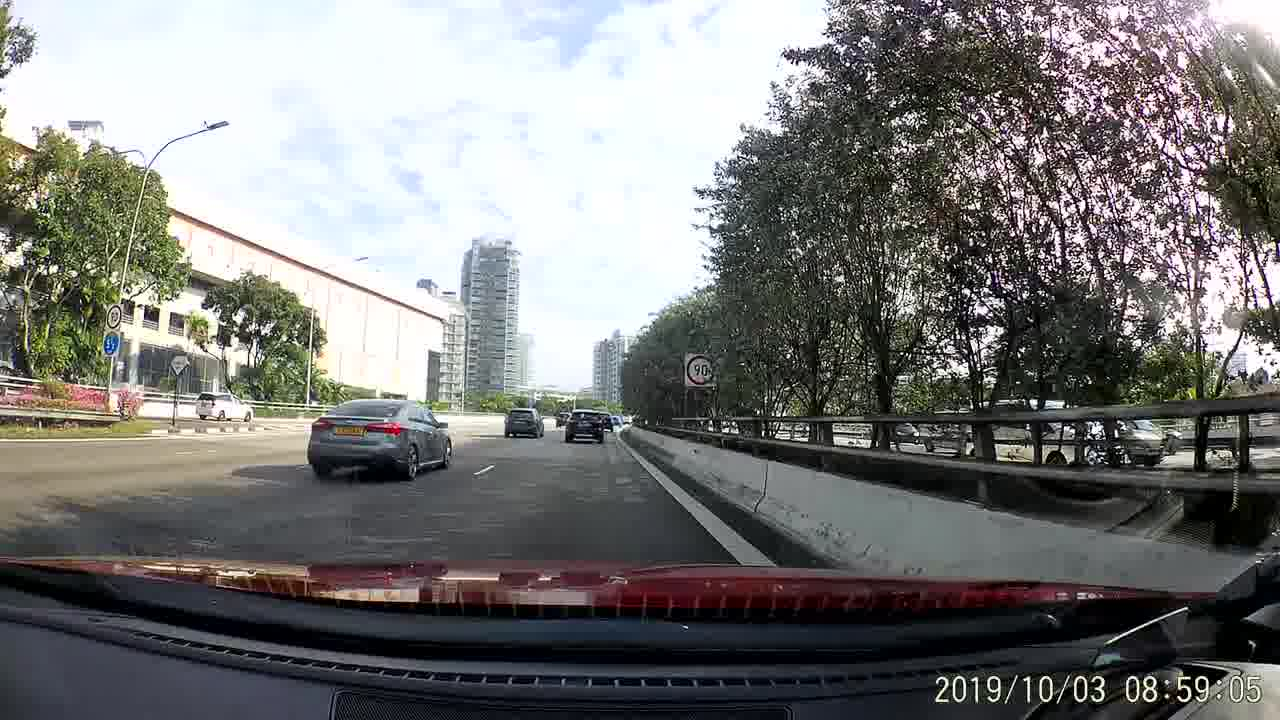car: (308, 396, 454, 482), (193, 390, 255, 422), (500, 404, 547, 440), (563, 408, 606, 446)
